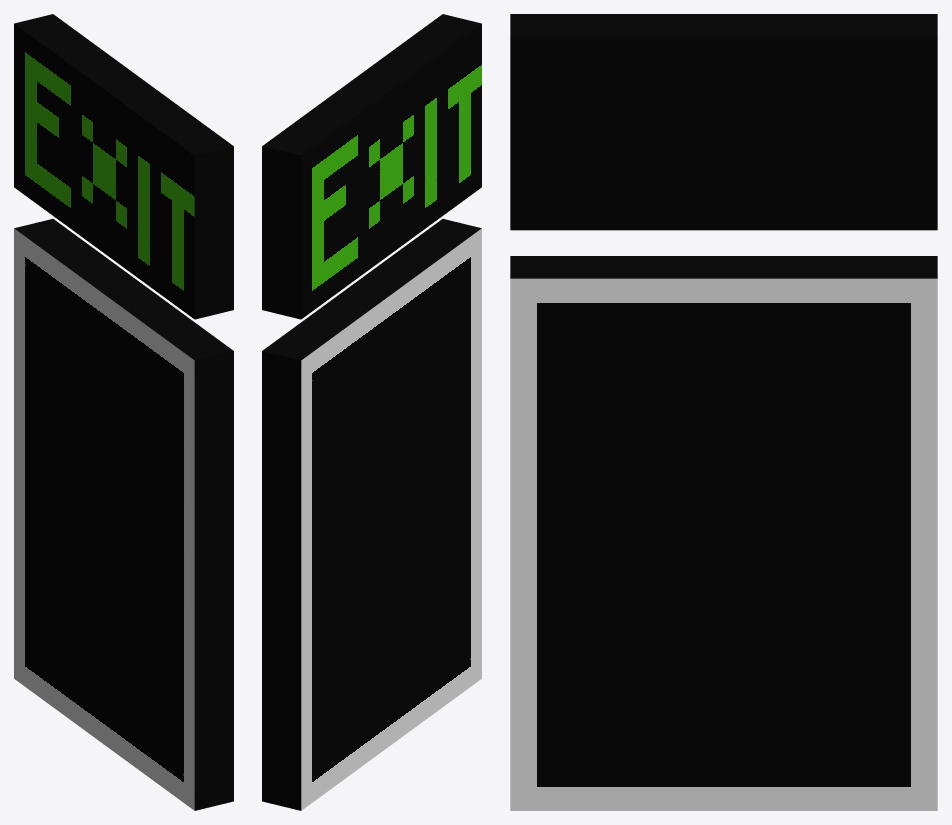
File: ExitPortal.gltf
The picture shows the model from 3 angles, left to right: view 1: azimuth 30°, elevation 25°; view 2: azimuth 150°, elevation 25°; view 3: azimuth 270°, elevation 25°; orthographic projection. The views are drawn at different scales.
Visible parts, largest first — view 1: mesh (×2); view 2: mesh (×2); view 3: mesh (×2).
Part boxes in pixels (x1,y1,x2,y2): mesh (×2): (14,14,233,810); mesh (×2): (262,14,481,810); mesh (×2): (510,14,937,810).
Bounding box in the file's own units: 0.125 × 2 × 1.
2 materials, 2 textured.
